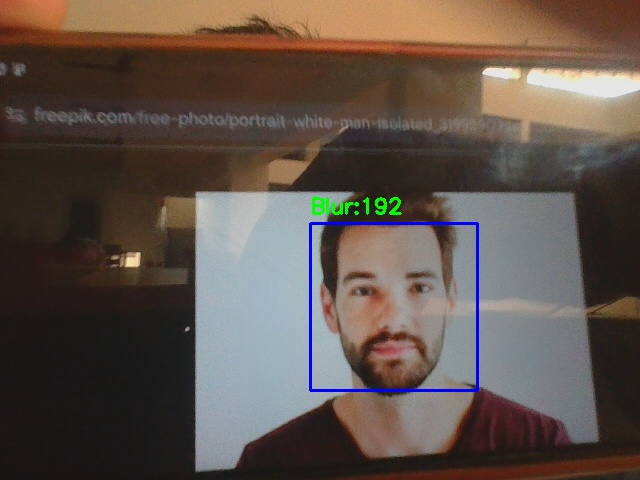fake: (310, 223, 477, 390)
